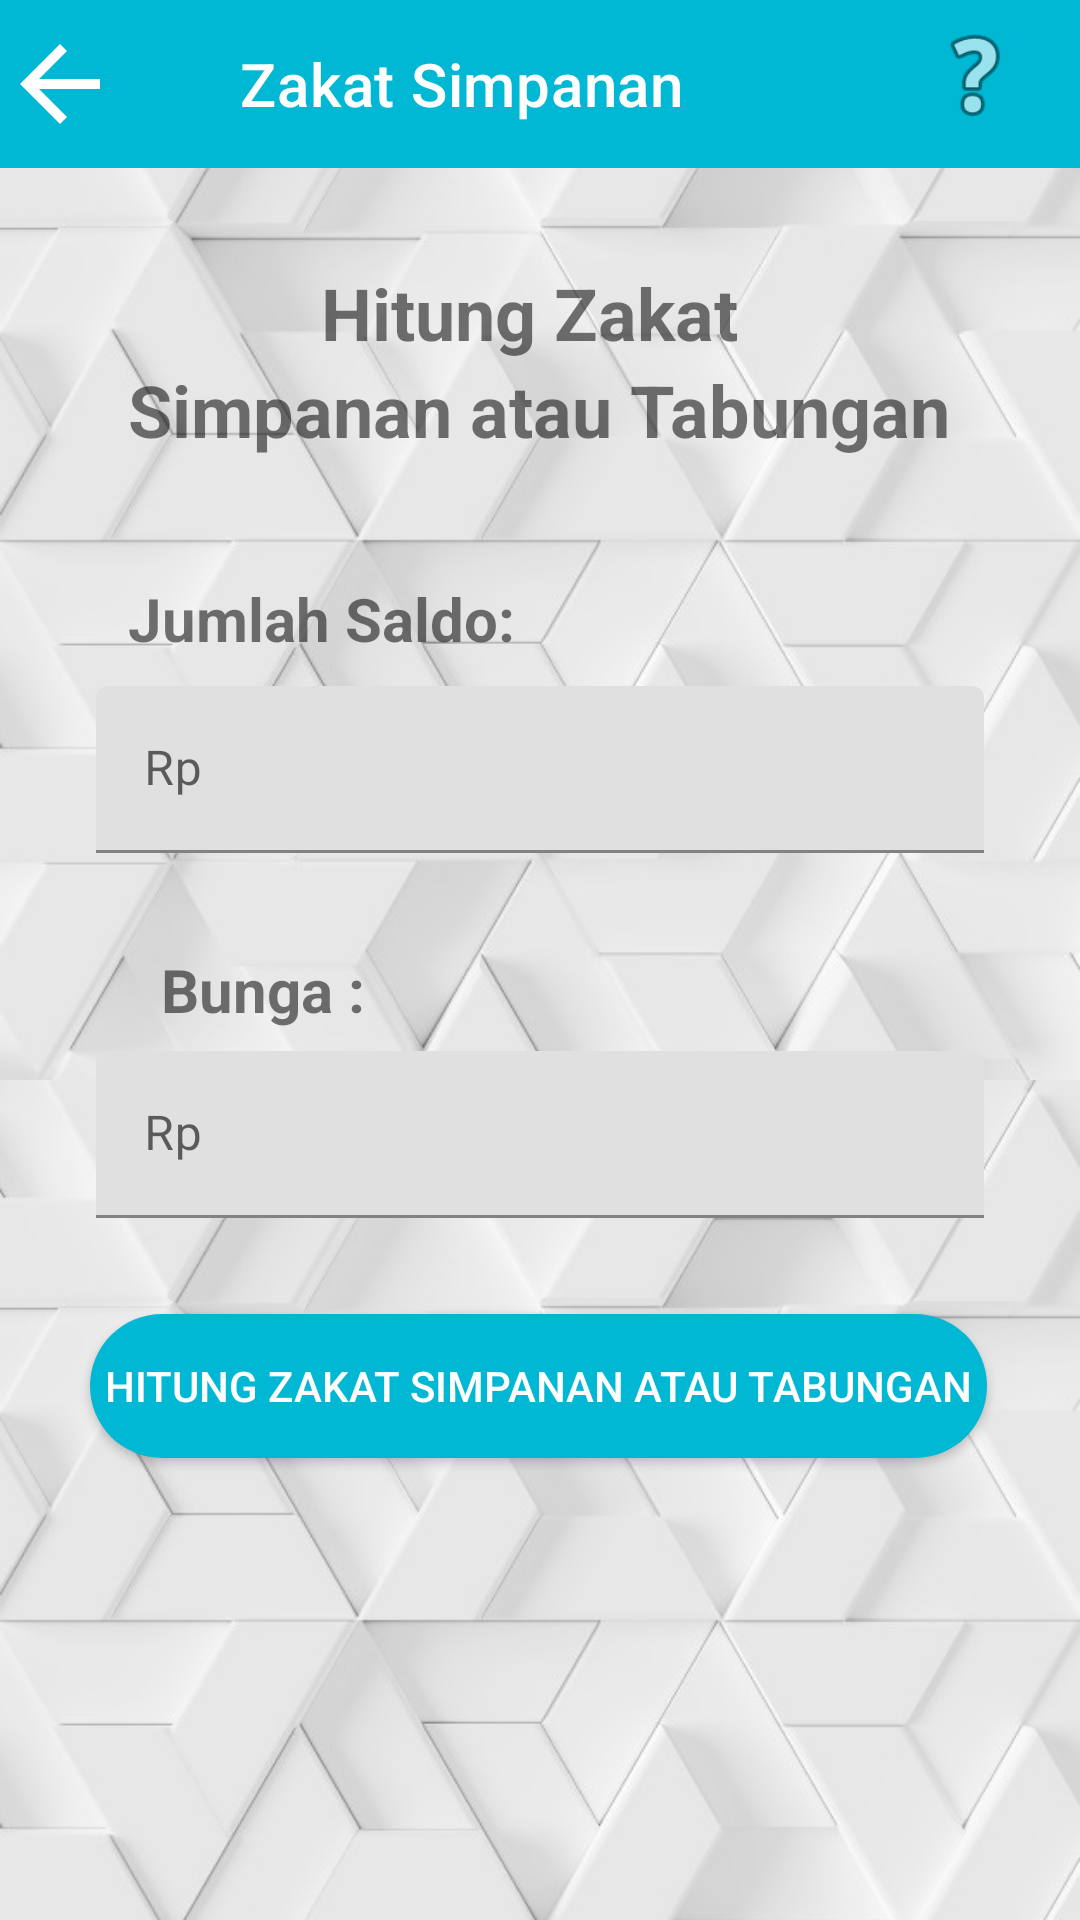

Point at icon controls on the screen. Image size 1080*1920, points as (x,y).
help: (975,75)
